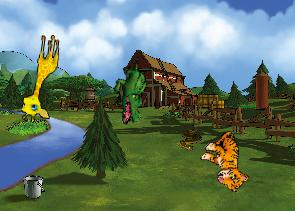crocodile: (106, 59, 157, 126)
giraffe: (18, 31, 61, 124)
tiger: (193, 126, 263, 195)
